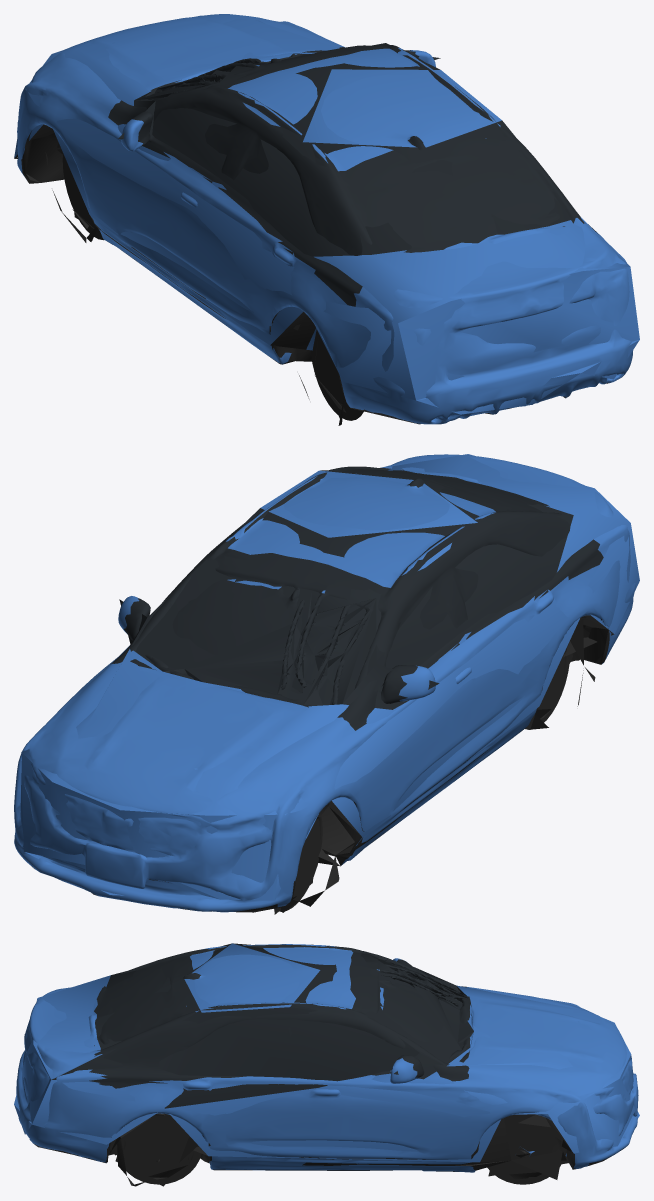
Rendered from cadillac-ct4.glb.
3 views of the same model, one above another, from view 1: azimuth 30°, elevation 25°; view 2: azimuth 150°, elevation 25°; view 3: azimuth 270°, elevation 25° (orthographic). The views are drawn at different scales.
Visible parts, largest first — view 1: body, far; view 2: body, far; view 3: body, far.
Boxes of the visible parts, <box> form: body: <box>17,14,633,425</box>; far: <box>14,15,639,425</box>; body: <box>14,454,635,912</box>; far: <box>20,454,639,914</box>; body: <box>16,944,638,1186</box>; far: <box>14,943,639,1186</box>.
Bounding box in the file's own units: 2.11 × 1.54 × 4.85.
